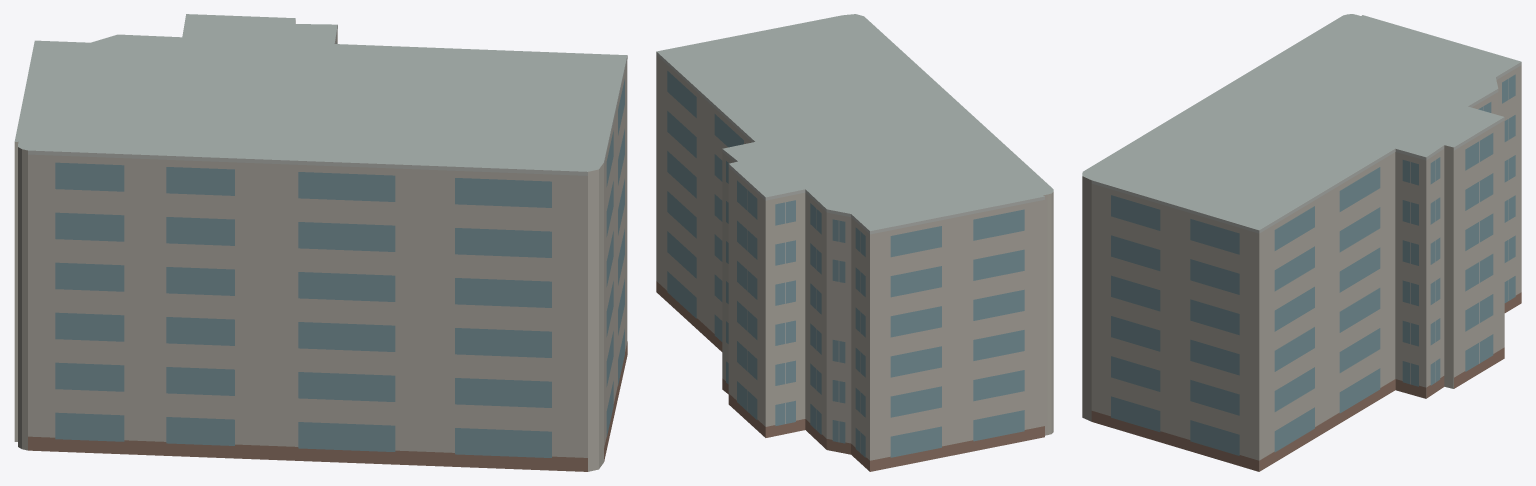
File: survey-upis-32707723.glb
3 renders of one model, left to right at view 1: azimuth 30°, elevation 25°; view 2: azimuth 150°, elevation 25°; view 3: azimuth 270°, elevation 25°, orthographic. The views are drawn at different scales.
Parts seen in each view (by area): view 1: survey-upis-32707723.tmp; view 2: survey-upis-32707723.tmp; view 3: survey-upis-32707723.tmp.
Boxes of the visible parts, box(x1,y1,x2,y2) form: survey-upis-32707723.tmp: box(14, 14, 627, 471); survey-upis-32707723.tmp: box(656, 14, 1053, 471); survey-upis-32707723.tmp: box(1082, 14, 1521, 471).
Size of the model in its own units: 34.98 by 18.2 by 30.02.
